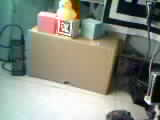duck: (52, 4, 75, 22)
